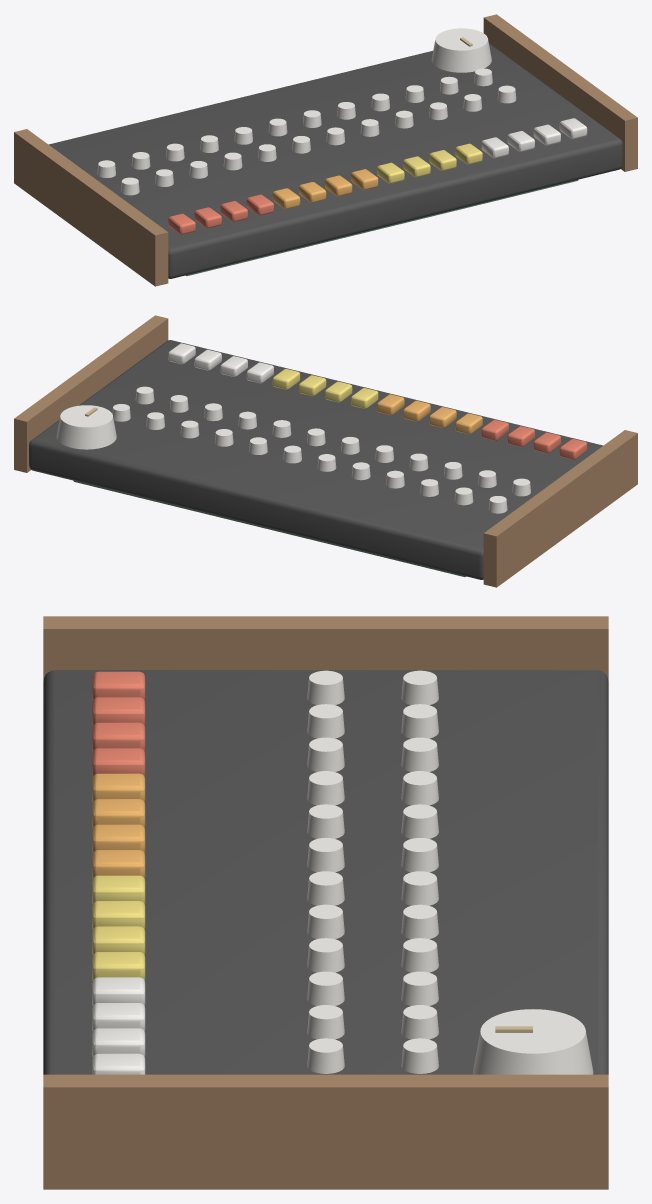
3 renders of one model, top to bottom at view 1: azimuth 30°, elevation 25°; view 2: azimuth 150°, elevation 25°; view 3: azimuth 270°, elevation 25°, orthographic. The views are drawn at different scales.
Parts seen in each view (by area): view 1: case, knobs, keys, tempo, circuit; view 2: case, knobs, keys, tempo, circuit; view 3: case, knobs, keys, tempo.
Boxes of the visible parts, box(x1,y1,x2,y2) form: case: box(14, 14, 637, 286); knobs: box(97, 68, 516, 195); keys: box(168, 118, 587, 234); tempo: box(431, 28, 491, 72); circuit: box(186, 180, 578, 275); case: box(14, 315, 637, 587); knobs: box(112, 386, 530, 513); keys: box(168, 343, 587, 459); tempo: box(56, 405, 116, 449); circuit: box(73, 481, 465, 576); case: box(43, 616, 608, 1189); knobs: box(307, 670, 438, 1073); keys: box(92, 671, 145, 1074); tempo: box(473, 1009, 593, 1074).
Bounding box in the file's own units: 2.96 × 0.385 × 1.5.
